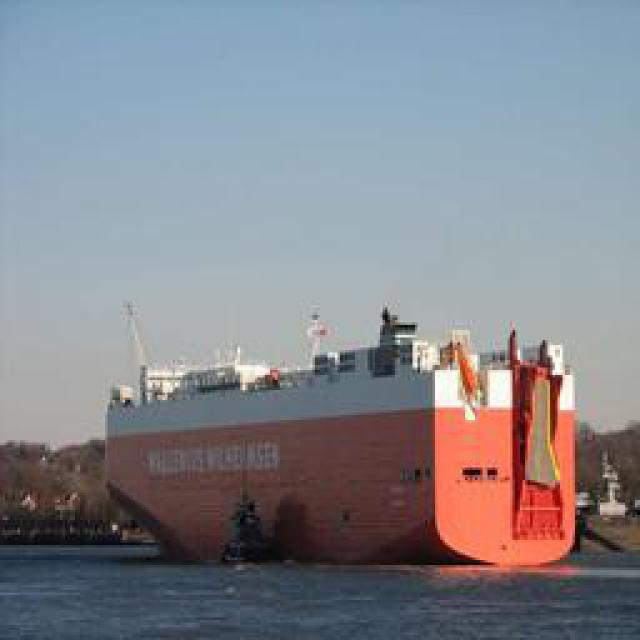Ship: (107, 291, 595, 569)
